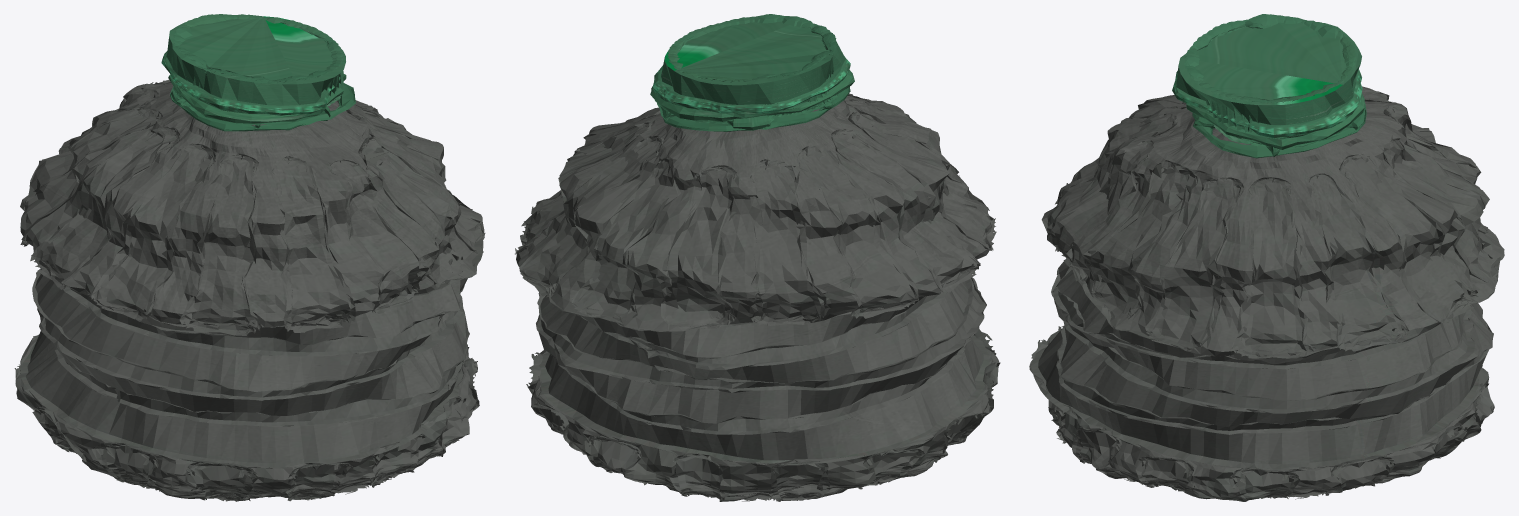
File: crush_high_1.obj
The picture shows the model from 3 angles, left to right: view 1: azimuth 30°, elevation 25°; view 2: azimuth 150°, elevation 25°; view 3: azimuth 270°, elevation 25°; orthographic projection.
Parts seen in each view (by area): view 1: model; view 2: model; view 3: model.
Boxes of the visible parts, <box> form: model: <box>14,14,485,501</box>; model: <box>515,14,1000,501</box>; model: <box>1029,14,1504,501</box>.
Size of the model in its own units: 0.1217 by 0.1063 by 0.1211.
1 material, 1 textured.
